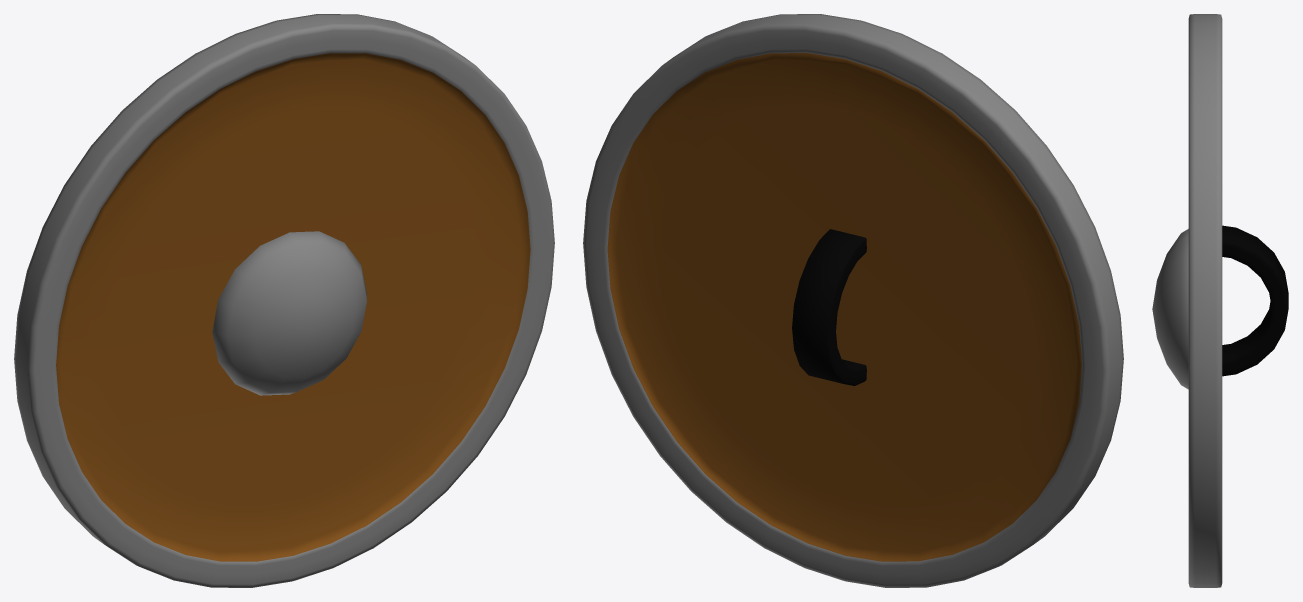
Rendered from Shield01.fbx.
3 views of the same model, side by side, from view 1: azimuth 30°, elevation 25°; view 2: azimuth 150°, elevation 25°; view 3: azimuth 270°, elevation 25° (orthographic). The views are drawn at different scales.
Visible parts, largest first — view 1: Shield01; view 2: Shield01; view 3: Shield01.
Boxes of the visible parts, x1,y1,x2,y2 form: Shield01: (14,14,554,587); Shield01: (583,14,1123,587); Shield01: (1152,14,1288,587).
Bounding box in the file's own units: 541 × 541 × 128.
